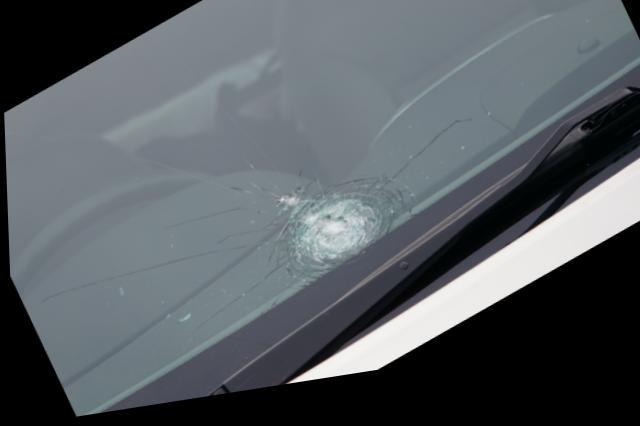glass shatter: (267, 189, 412, 292)
